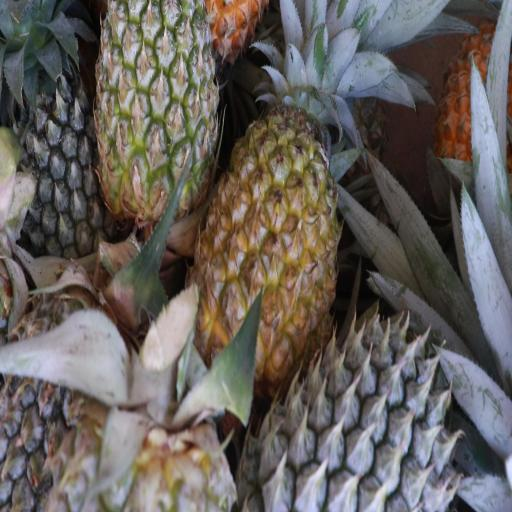------------------------------: (93, 0, 213, 226)
Pineapple - v8 v1: (198, 122, 340, 376), (432, 25, 512, 187)
